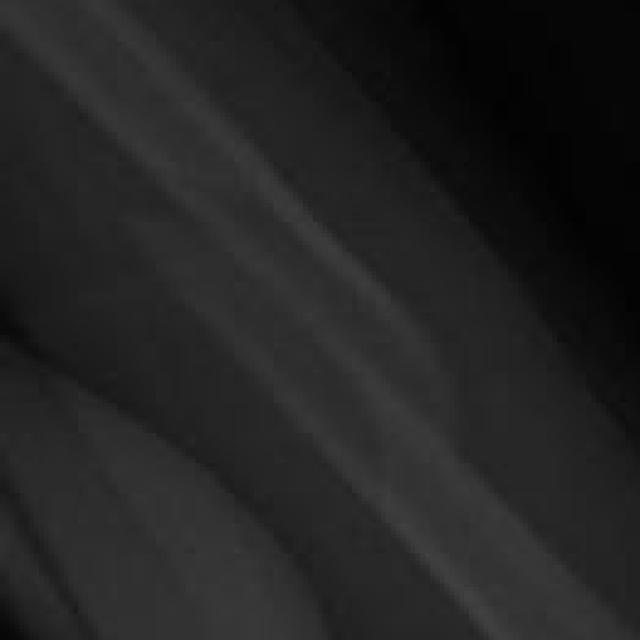fracture: (1, 3, 640, 640)
